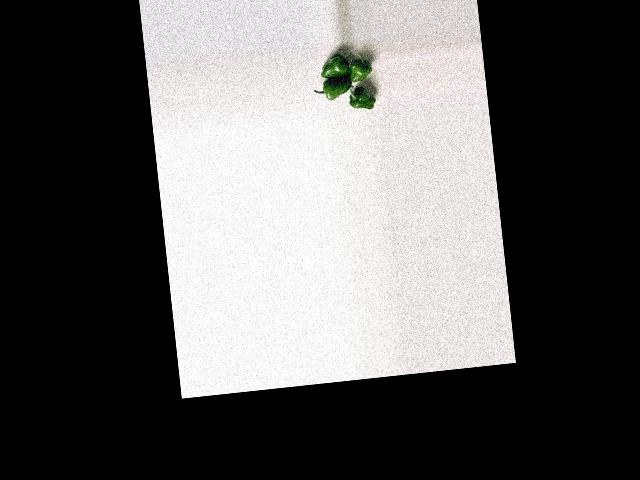bell_pepper: (349, 52, 373, 84)
